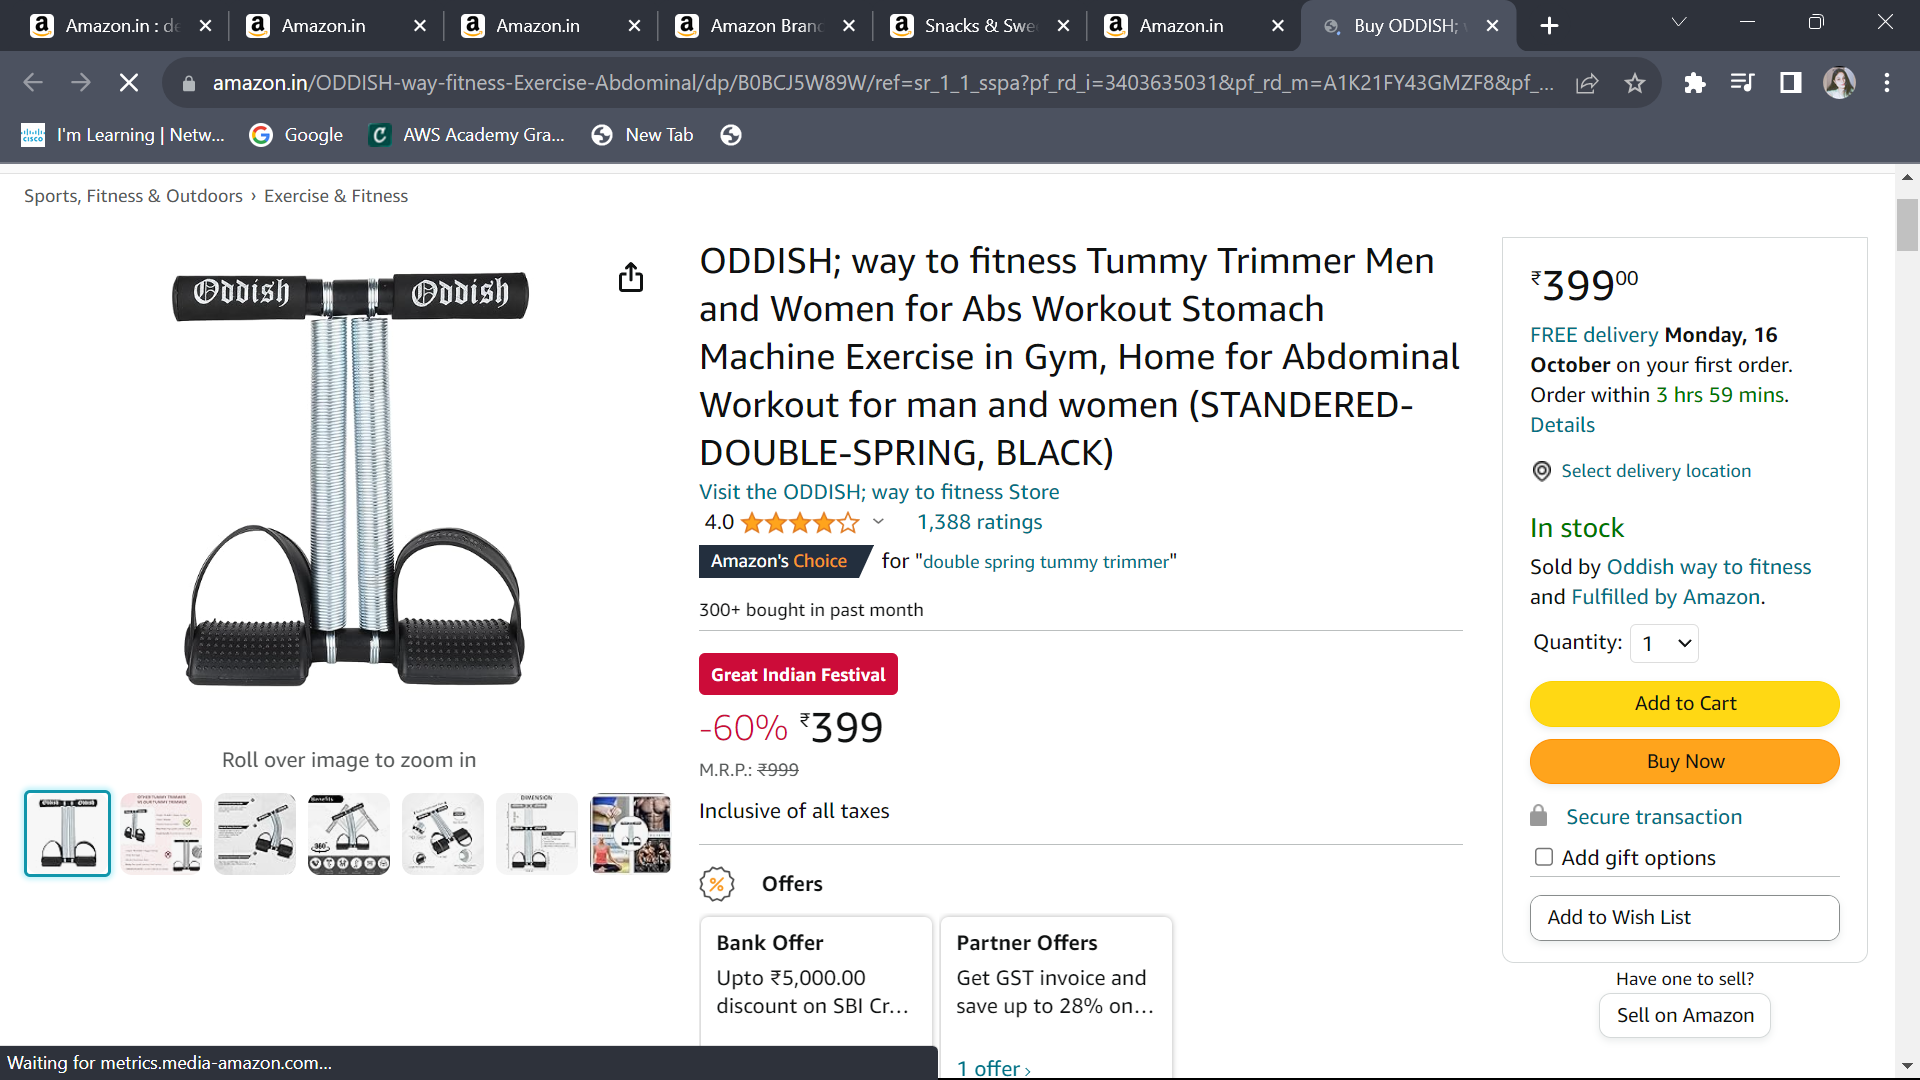Image: (83, 245, 609, 716)
Paragraph: (680, 229, 1476, 463), (671, 862, 1212, 1054), (1514, 666, 1851, 798), (1511, 314, 1828, 444), (657, 469, 1138, 550), (666, 692, 949, 789), (1490, 800, 1797, 878), (1523, 553, 1816, 615), (1516, 448, 1807, 501), (1505, 902, 1833, 947), (1526, 241, 1672, 316), (692, 800, 914, 836), (1511, 621, 1714, 657), (1514, 517, 1672, 541)
